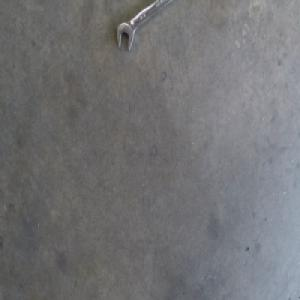Wrench: (116, 0, 169, 50)
